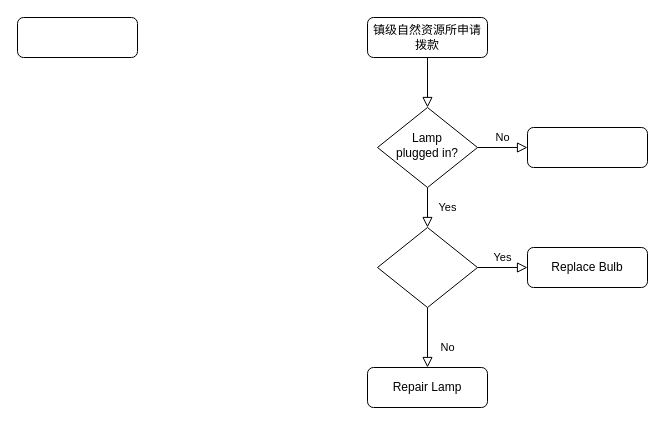
Some shapes in this 665 by 425 pixel diagram are drawn without their labels. The centre of each missing label's shape, as x and y in pixels:
"Bulb burned out?" belongs at point 427,267.
"Plug in lamp" belongs at point 587,147.
